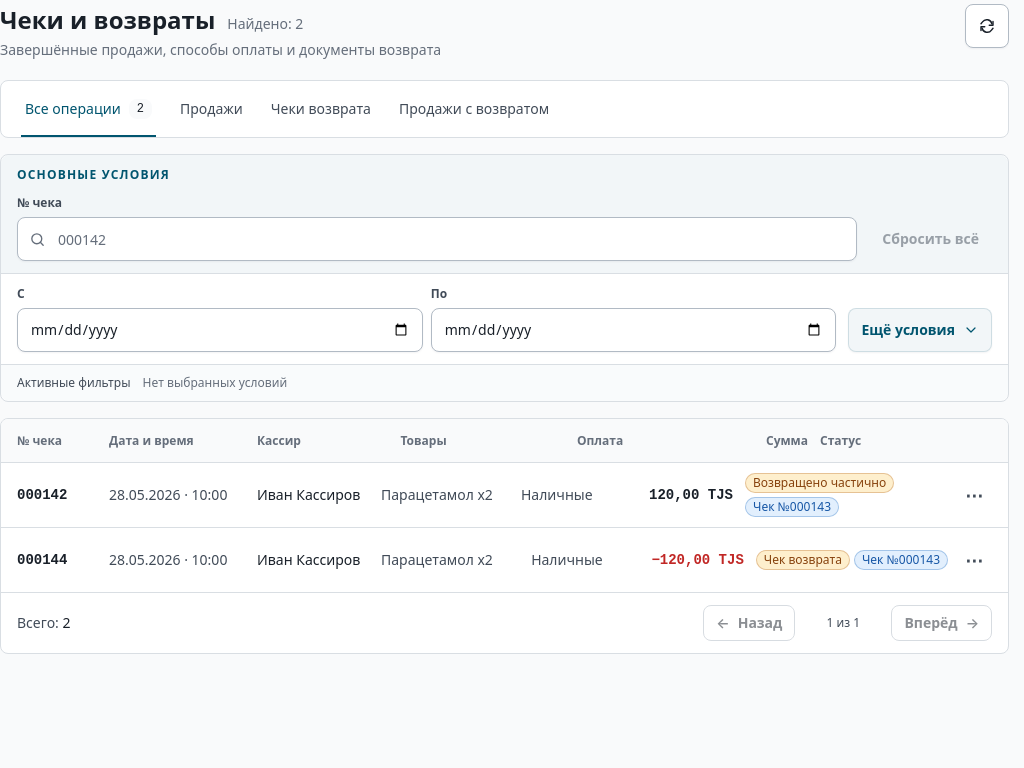
it: SalesPage › opens the right-clicked receipt through the existing detail modal
The image size is (1024, 768).
Right-click the element named "Открыть чек № 000144".
right_click(504, 560)  # box 1,527 -> 1008,592
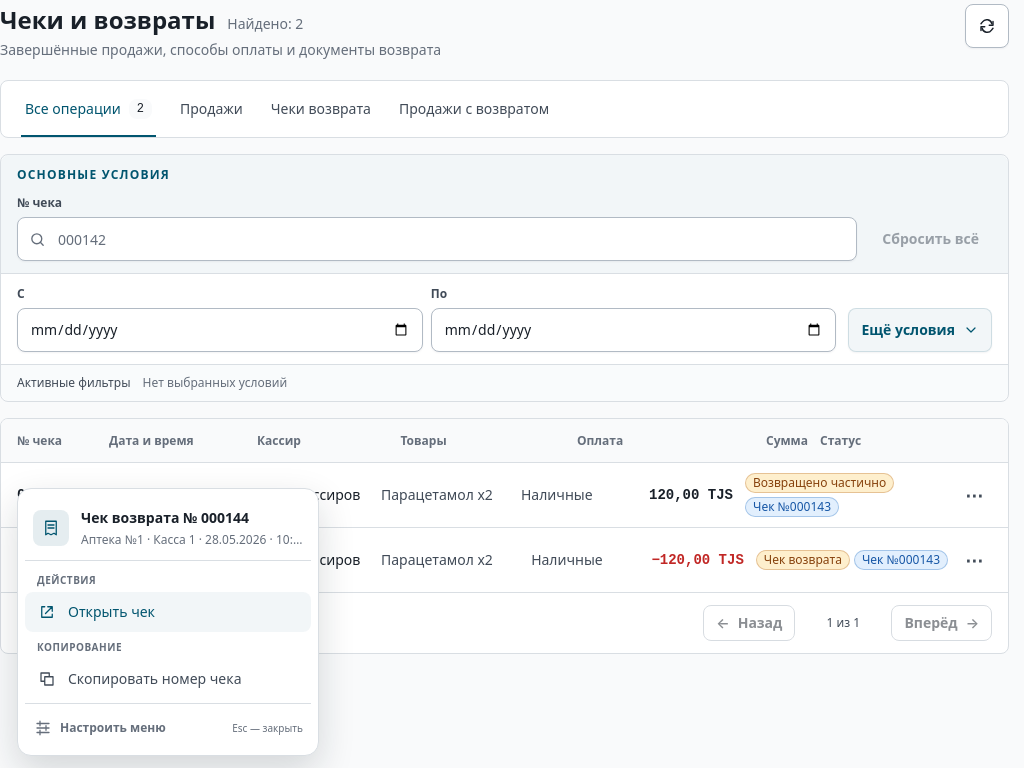
Now the text "Чек возврата № 000144" is shown, box 81,508 -> 249,527
Now the menu items read "Открыть чек", "Скопировать номер чека", "Настроить меню", in this order
Click the menu item "Открыть чек".
click(112, 612)  # box 25,592 -> 311,632
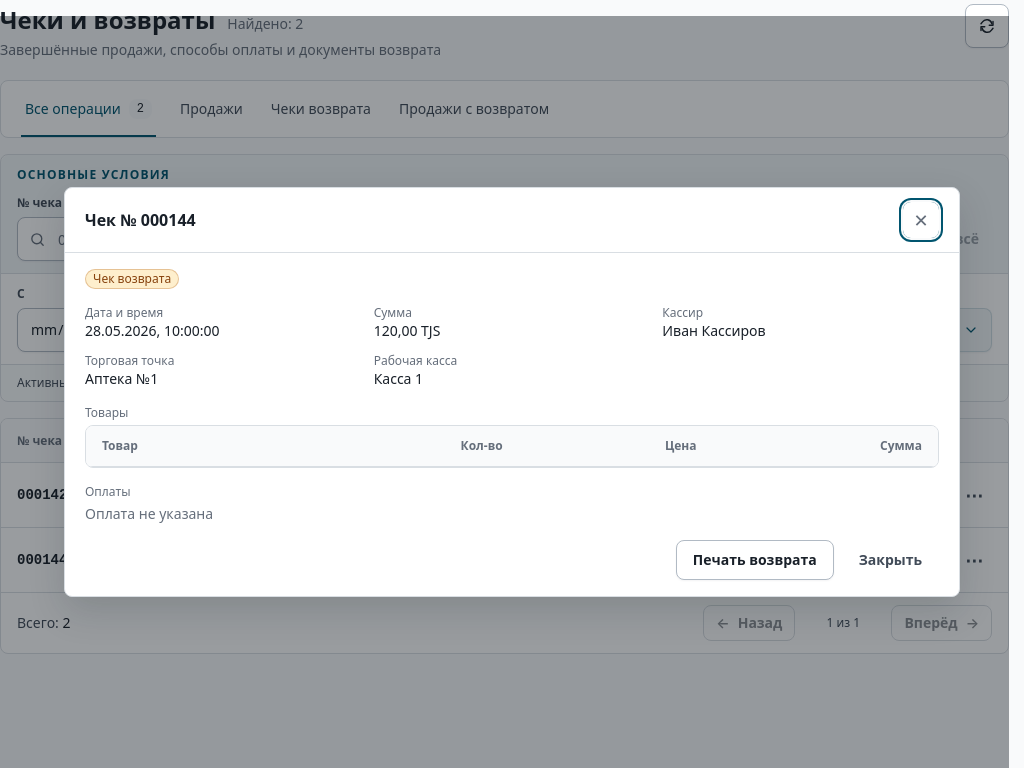
Now the dialog is shown, box 64,187 -> 960,597
Press Escape
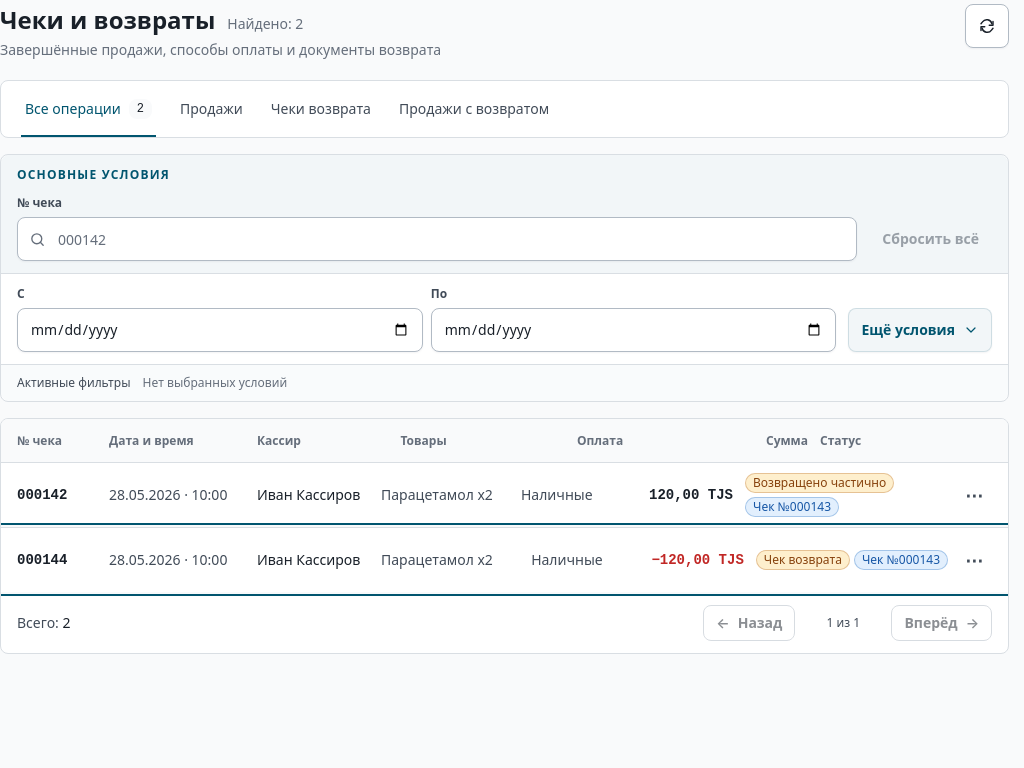
Now the dialog is gone
